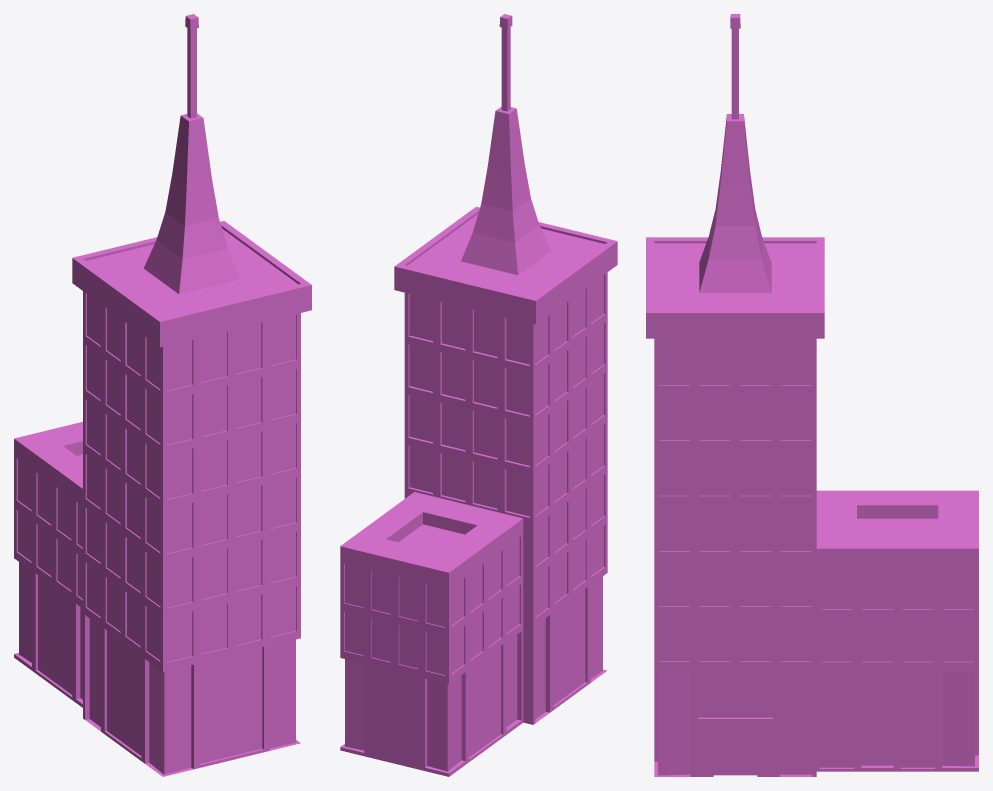
File: london grote gebouw 1.fbx
The picture shows the model from 3 angles, left to right: view 1: azimuth 30°, elevation 25°; view 2: azimuth 150°, elevation 25°; view 3: azimuth 270°, elevation 25°; orthographic projection. The views are drawn at different scales.
Parts seen in each view (by area): view 1: Plane.002; view 2: Plane.002; view 3: Plane.002.
Boxes of the visible parts, bbox=[...] form: Plane.002: bbox=[14, 14, 311, 776]; Plane.002: bbox=[340, 14, 617, 776]; Plane.002: bbox=[646, 14, 978, 776].
Size of the model in its own units: 22 by 98.81 by 41.
